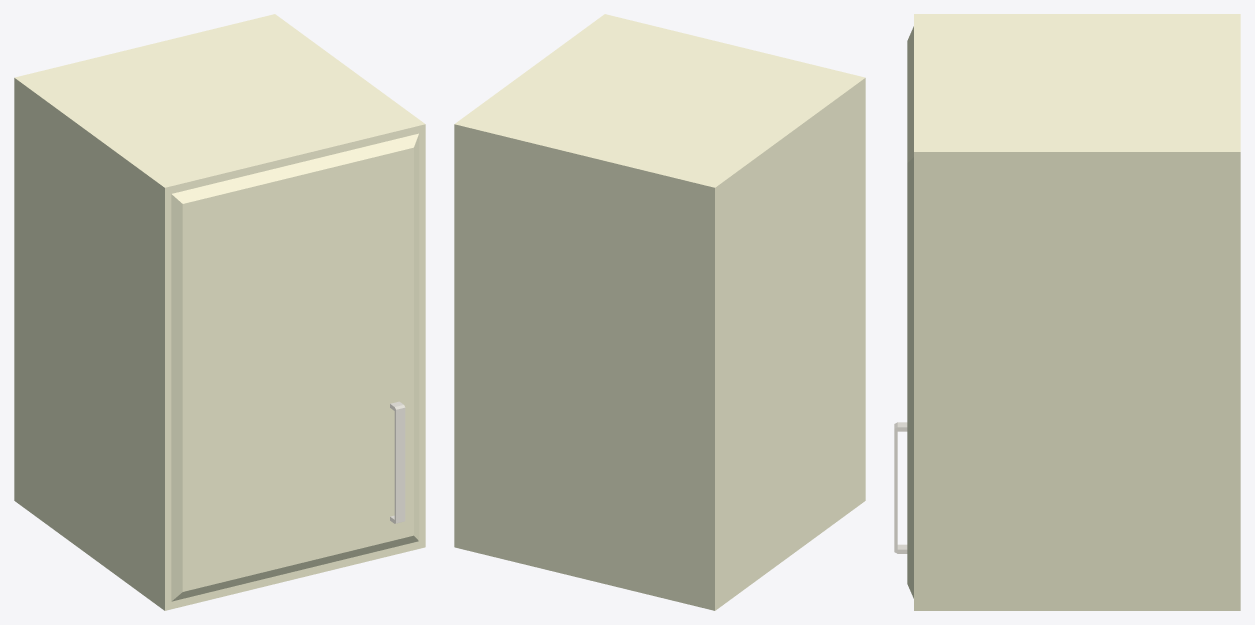
Rendered from q-kitchen-cabinet1.glb.
The picture shows the model from 3 angles, left to right: view 1: azimuth 30°, elevation 25°; view 2: azimuth 150°, elevation 25°; view 3: azimuth 270°, elevation 25°; orthographic projection. The views are drawn at different scales.
Parts seen in each view (by area): view 1: Kitchen_Cabinet1; view 2: Kitchen_Cabinet1; view 3: Kitchen_Cabinet1.
Part boxes in pixels (x1=…): Kitchen_Cabinet1: x1=14, y1=14, x2=425, y2=610; Kitchen_Cabinet1: x1=454, y1=14, x2=865, y2=610; Kitchen_Cabinet1: x1=894, y1=14, x2=1240, y2=610.
Bounding box in the file's own units: 1.01 × 1.57 × 1.07.
